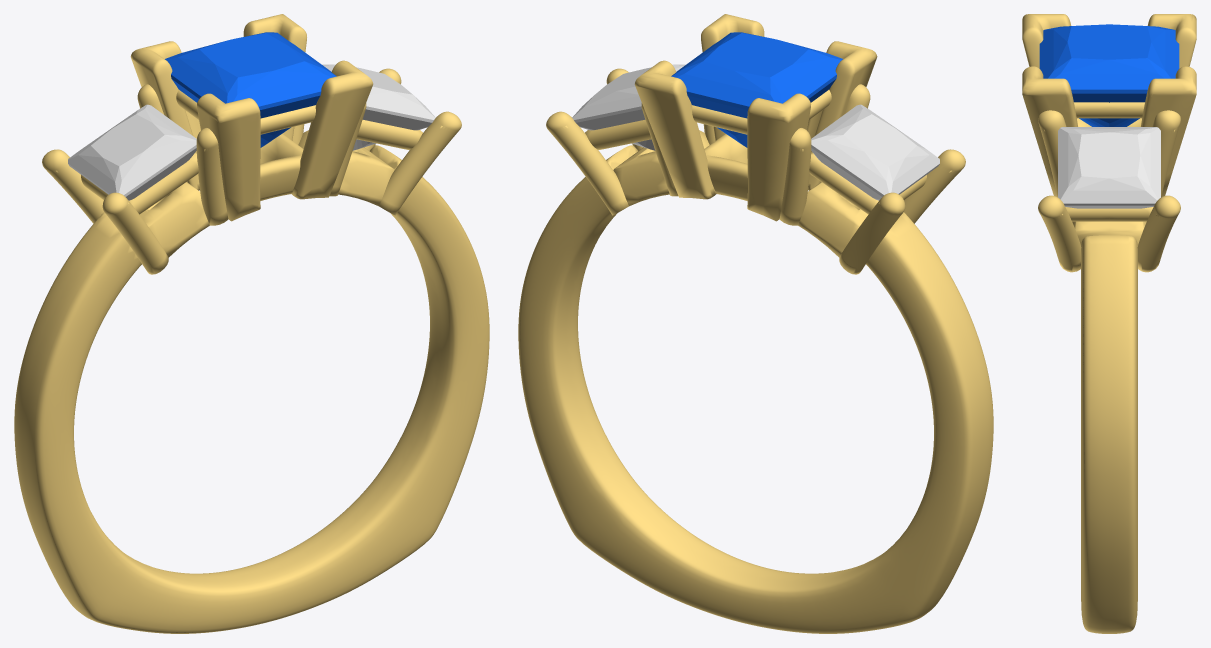
File: bluesapphire-princess-yellowgold-protectededges4prongs-europeanshank-3stone.glb
3 views of the same model, side by side, from view 1: azimuth 30°, elevation 25°; view 2: azimuth 150°, elevation 25°; view 3: azimuth 270°, elevation 25° (orthographic).
Visible parts, largest first — view 1: metal, stone, side.001, side; view 2: metal, stone, side.001, side; view 3: metal, stone, side.
Part boxes in pixels (left/top/right/bottom): metal: left=14, top=14, right=489, bottom=633; stone: left=165, top=32, right=336, bottom=147; side.001: left=68, top=104, right=196, bottom=200; side: left=322, top=64, right=435, bottom=150; metal: left=518, top=14, right=993, bottom=633; stone: left=671, top=32, right=842, bottom=147; side.001: left=811, top=104, right=939, bottom=200; side: left=572, top=64, right=685, bottom=150; metal: left=1022, top=14, right=1196, bottom=633; stone: left=1039, top=24, right=1179, bottom=126; side: left=1058, top=127, right=1160, bottom=208.
Bounding box in the file's own units: 20.1 × 23.65 × 6.77.
